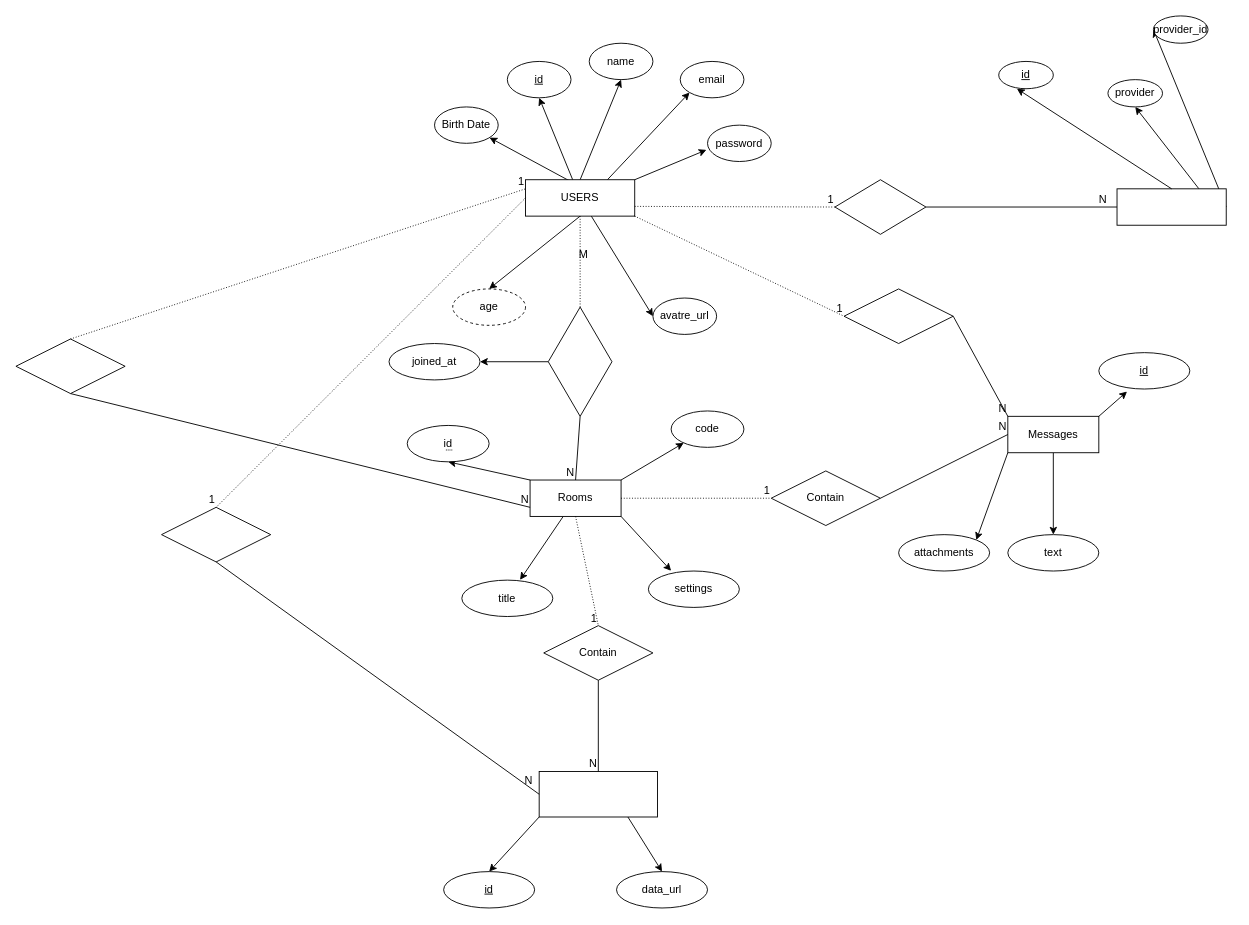
This 1249x925 diagram has some shape labels left out. Here are the shapes that lost their labels. From the top down, the centre of each, then its label:
At [880,206]: "Have".
At [1171,206]: "ProviderAccounts".
At [898,316]: "Send".
At [70,366]: "Owner".
At [579,361]: "Joins".
At [216,534]: "saves".
At [597,794]: "WhiteboardSnapshots".
